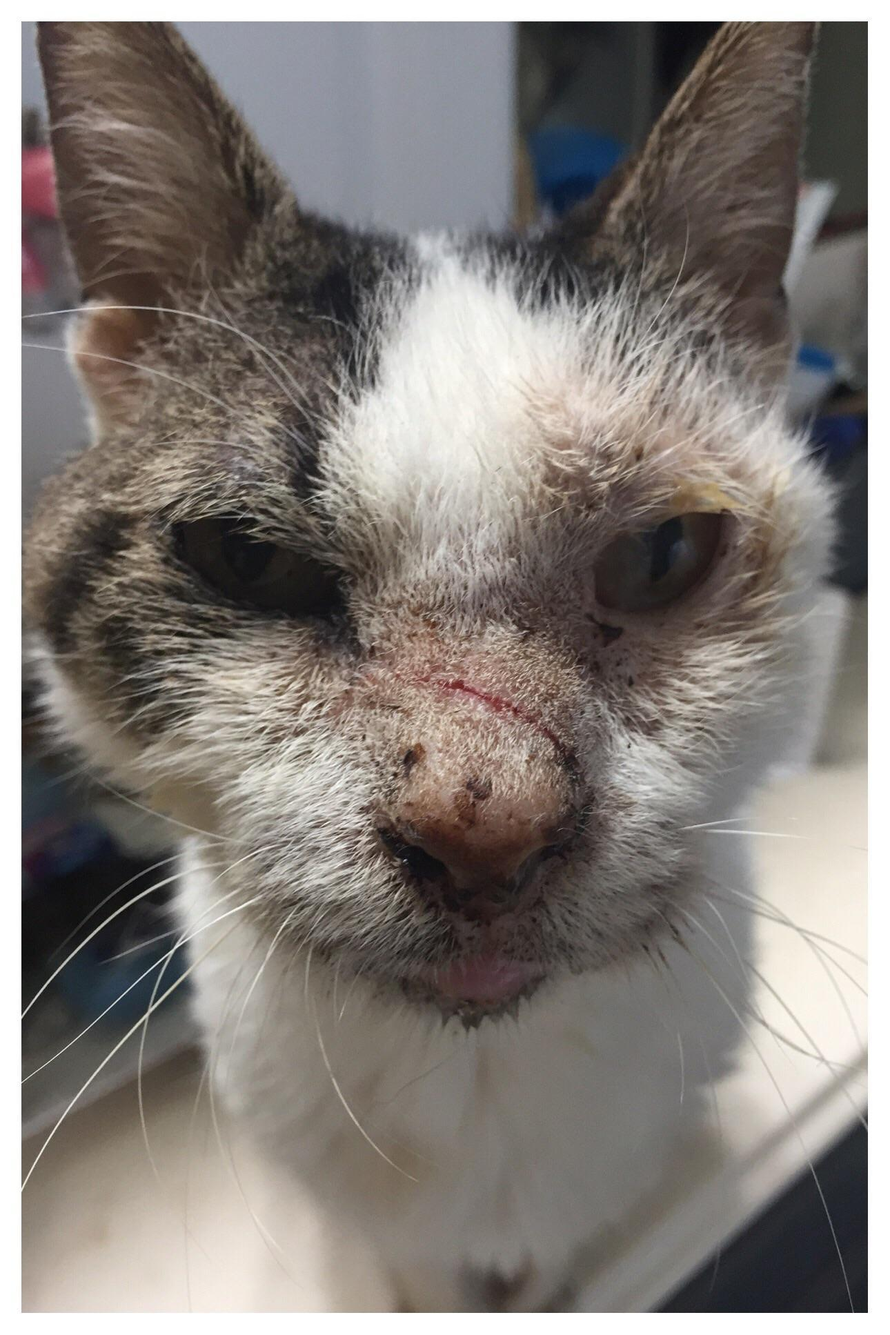cut: (356, 642, 626, 842)
